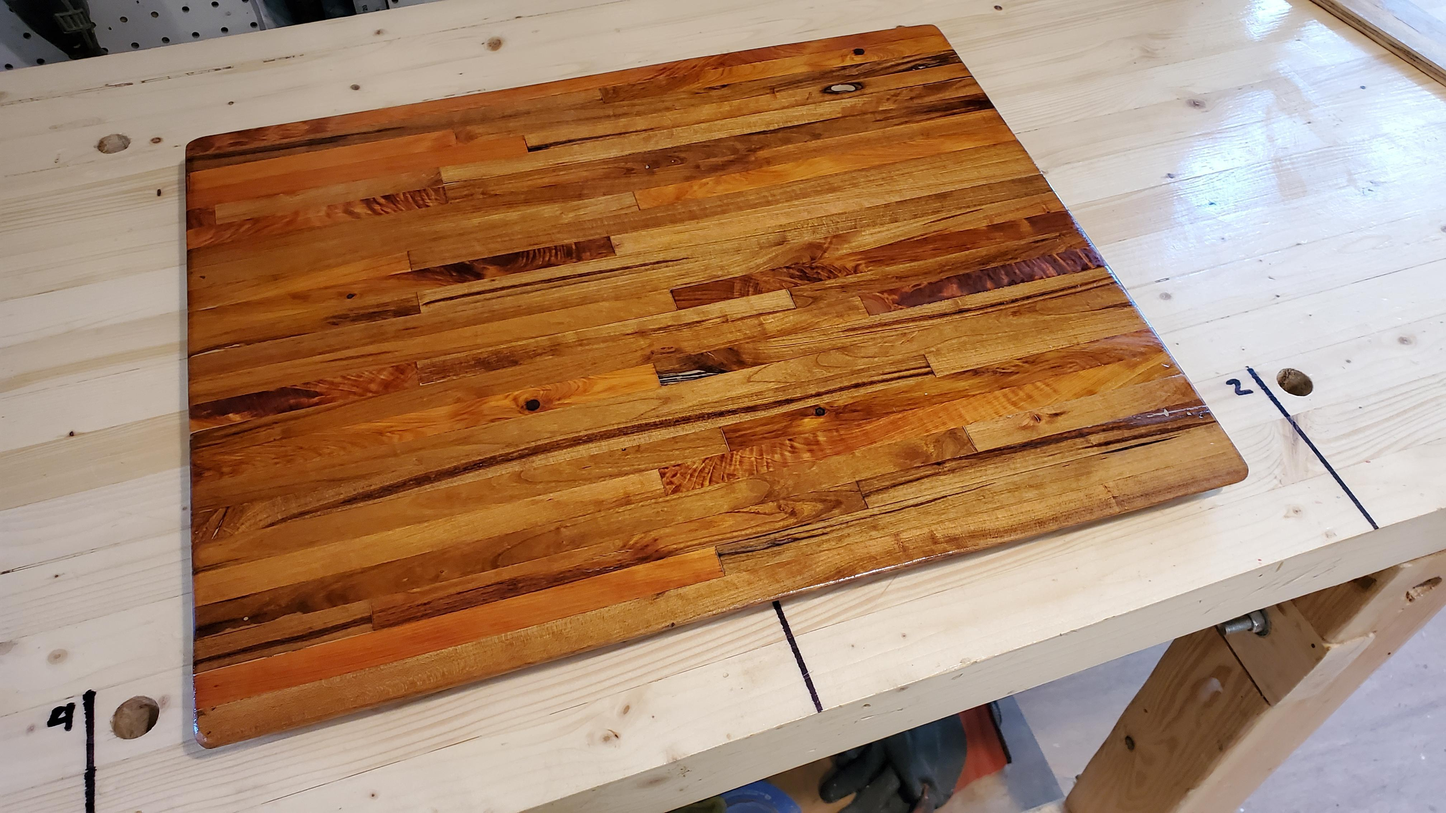gloved_hand: (164, 20, 1250, 762)
